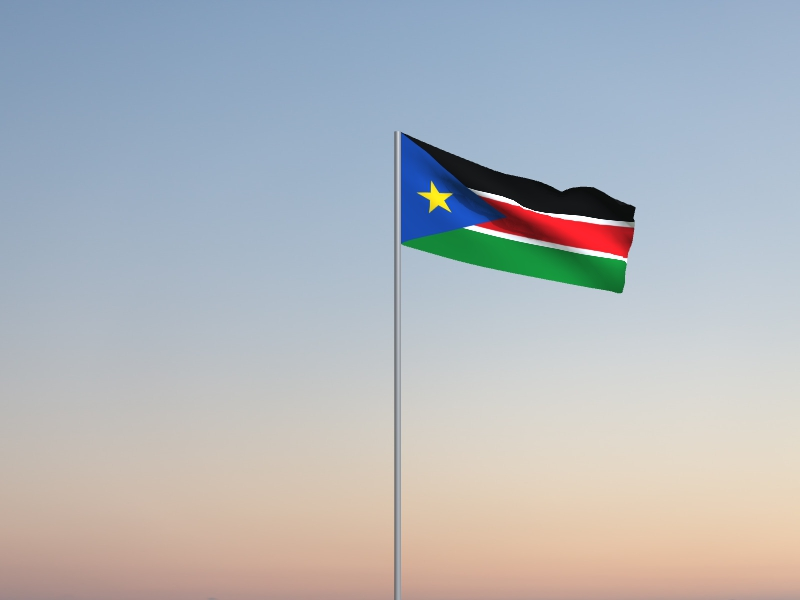ss: (402, 133, 636, 295)
